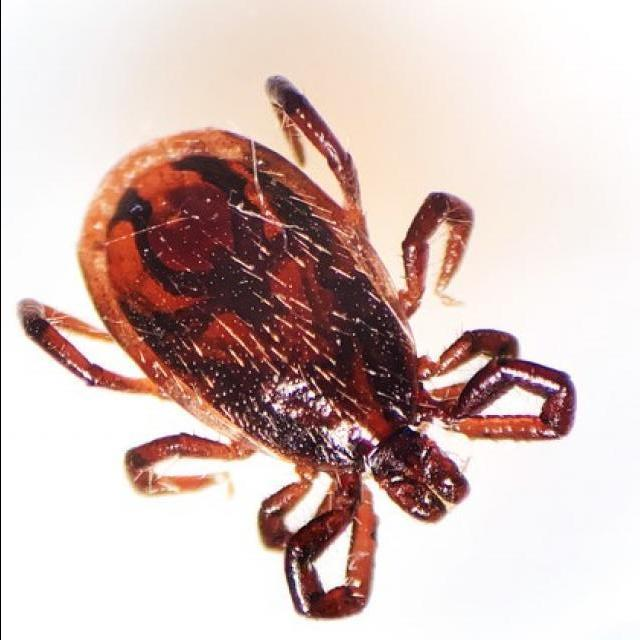Ixodes Ricinus-M: (18, 75, 578, 621)
